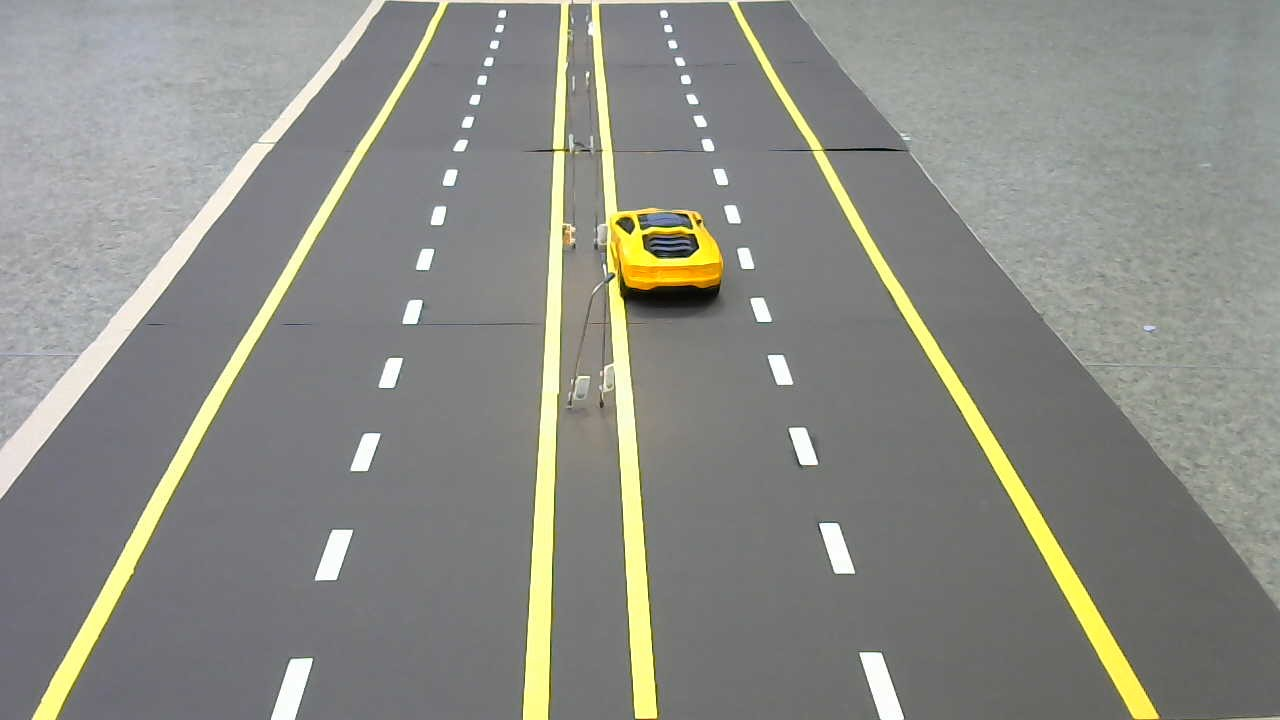back_car: (611, 206, 725, 300)
